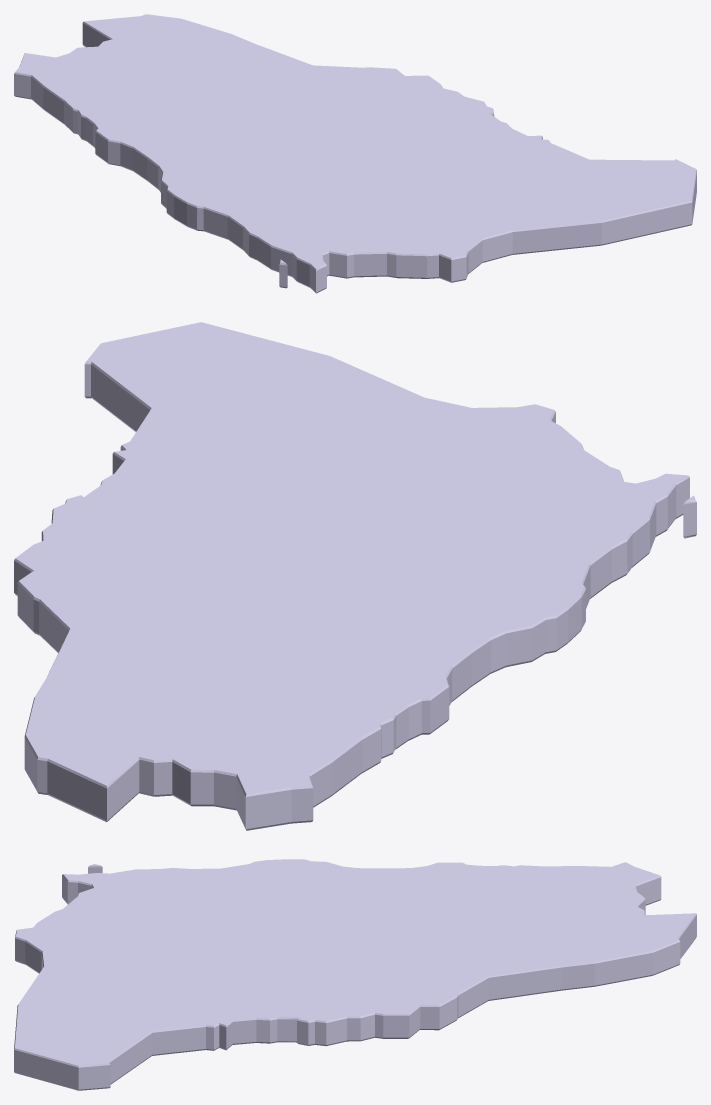
Rendered from SAU.glb.
The picture shows the model from 3 angles, top to bottom: view 1: azimuth 30°, elevation 25°; view 2: azimuth 150°, elevation 25°; view 3: azimuth 270°, elevation 25°; orthographic projection. The views are drawn at different scales.
Bounding box in the file's own units: 1.21 × 0.068 × 1.69.
